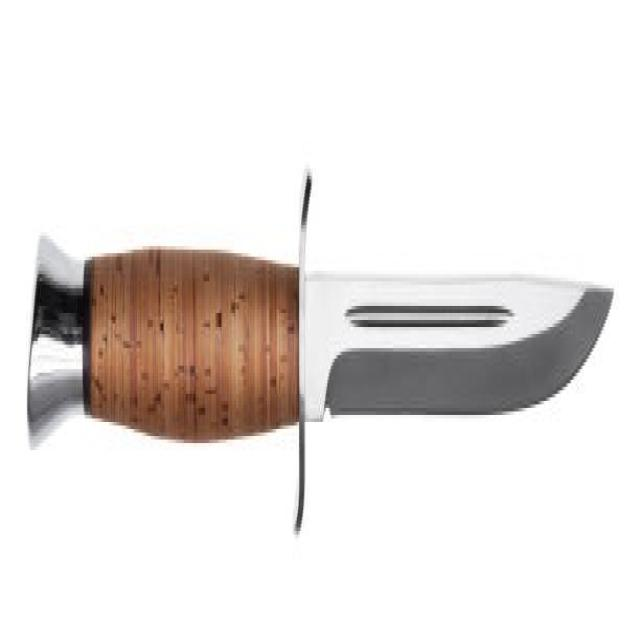knife: (20, 164, 618, 556)
